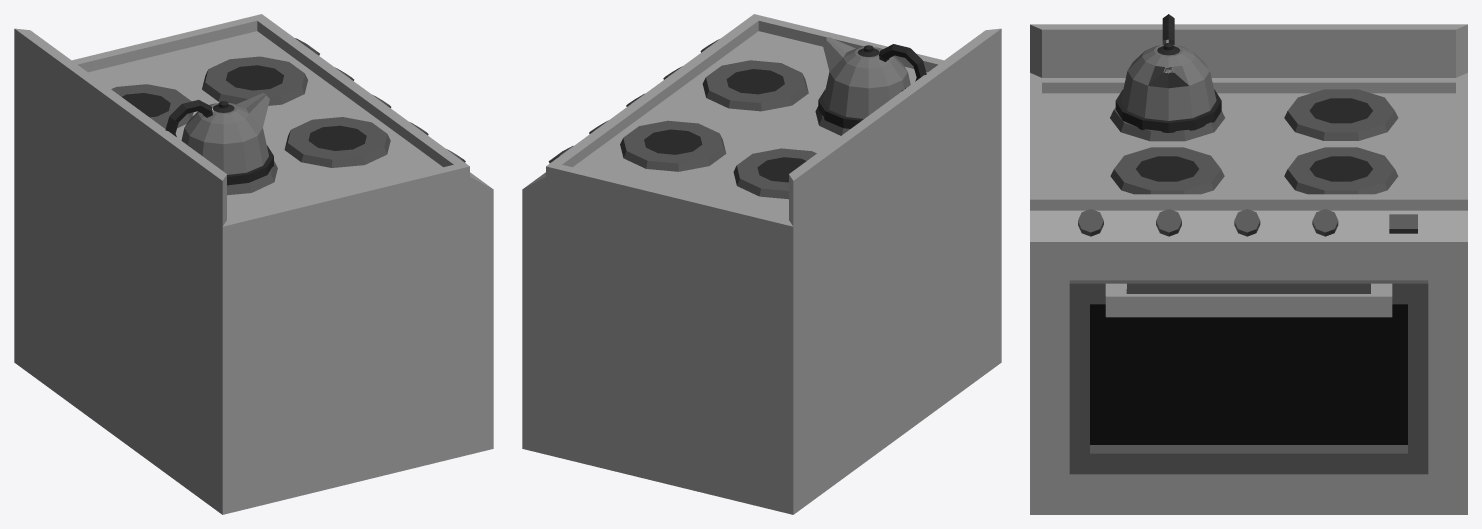
File: ocak (1).fbx
The picture shows the model from 3 angles, left to right: view 1: azimuth 30°, elevation 25°; view 2: azimuth 150°, elevation 25°; view 3: azimuth 270°, elevation 25°; orthographic projection. The views are drawn at different scales.
Parts seen in each view (by area): view 1: Cube.072, Cylinder.010; view 2: Cube.072, Cylinder.010; view 3: Cube.072, Cylinder.010.
Part boxes in pixels (x1,y1,x2,y2): Cube.072: (14, 14, 493, 514); Cylinder.010: (165, 93, 273, 185); Cube.072: (522, 14, 1001, 514); Cylinder.010: (818, 37, 926, 128); Cube.072: (1030, 24, 1467, 514); Cylinder.010: (1115, 14, 1221, 132).
Size of the model in its own units: 185 by 208 by 220.
2 materials, 2 textured.
